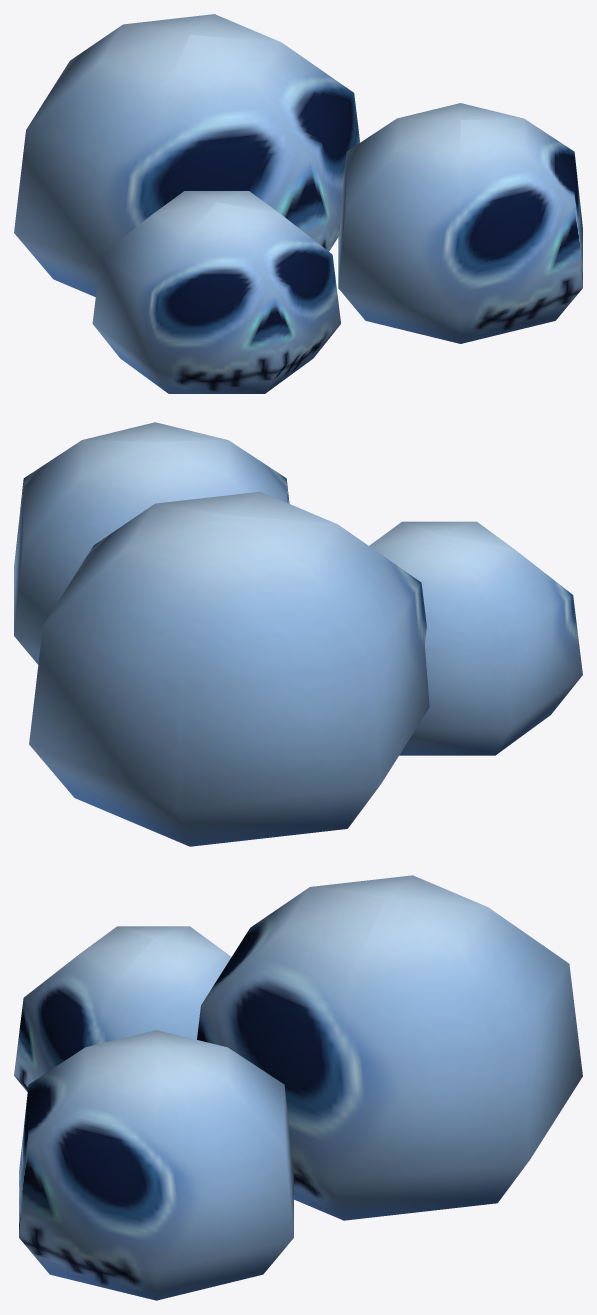
The model's file is Skull1_Group.FBX.
3 views of the same model, one above another, from view 1: azimuth 30°, elevation 25°; view 2: azimuth 150°, elevation 25°; view 3: azimuth 270°, elevation 25° (orthographic). The views are drawn at different scales.
Parts seen in each view (by area): view 1: Skull1_Group; view 2: Skull1_Group; view 3: Skull1_Group.
Boxes of the visible parts, x1,y1,x2,y2 form: Skull1_Group: [14, 14, 582, 393]; Skull1_Group: [14, 422, 582, 846]; Skull1_Group: [14, 875, 582, 1300].
Bounding box in the file's own units: 73.37 × 34.96 × 69.9.
